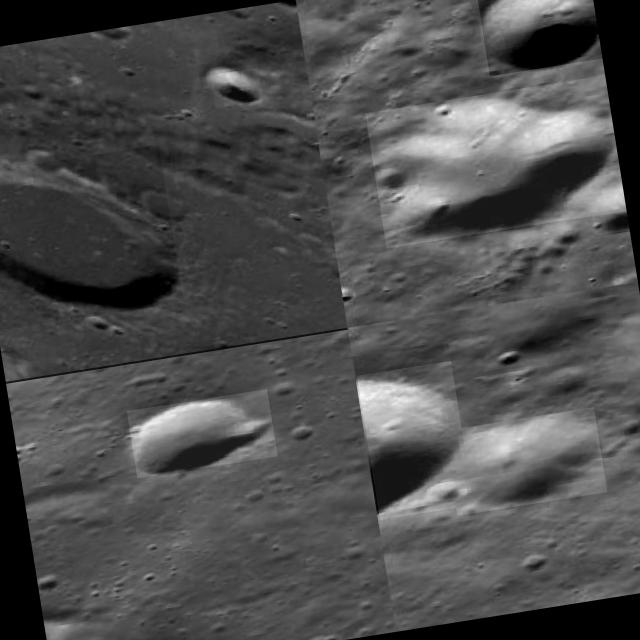crater: (366, 75, 626, 248), (0, 145, 183, 330), (357, 362, 474, 520), (444, 408, 608, 516), (127, 389, 278, 478), (476, 0, 603, 76), (208, 58, 264, 109), (587, 182, 629, 236)
